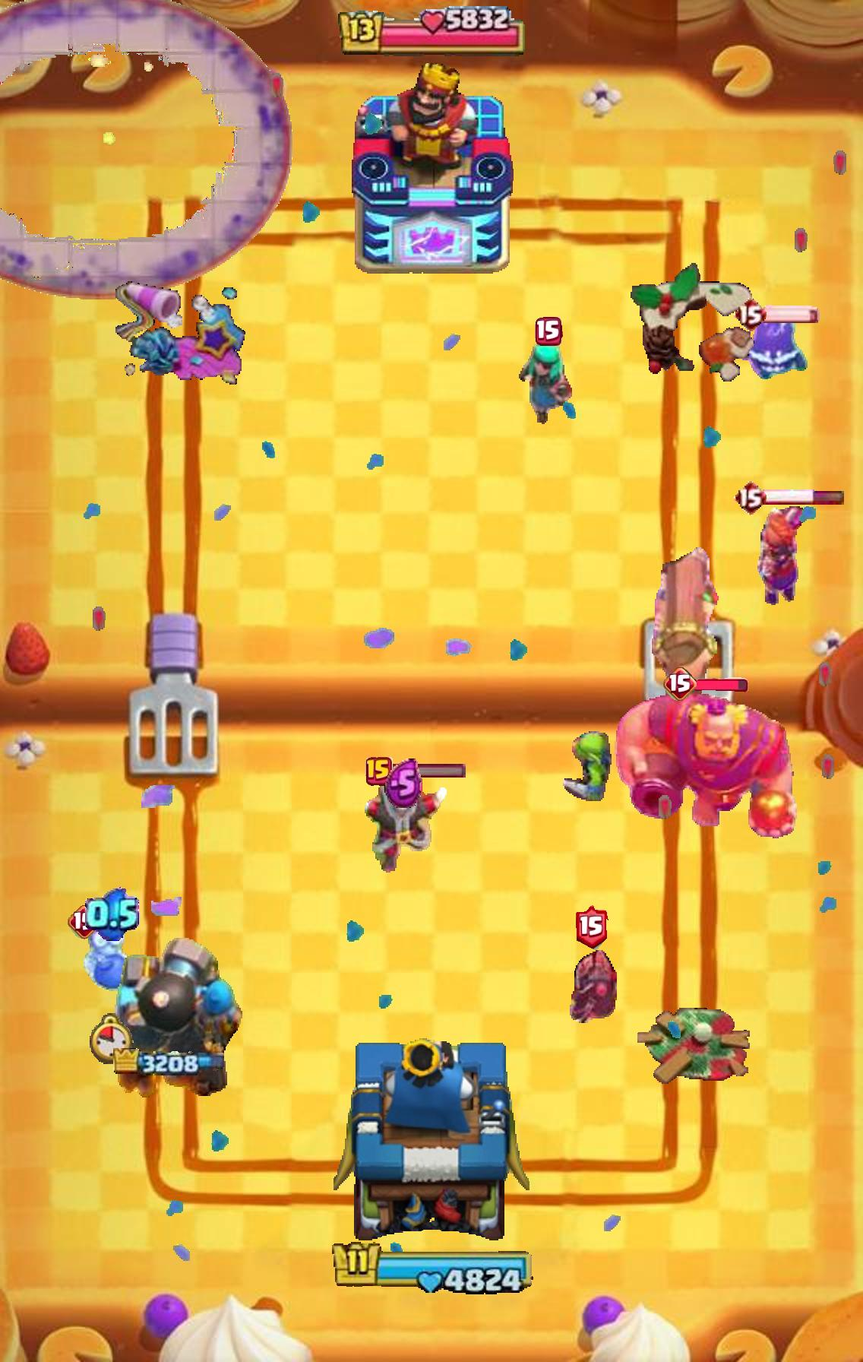bar: (619, 848, 661, 897), (767, 854, 800, 898), (61, 965, 84, 999)
